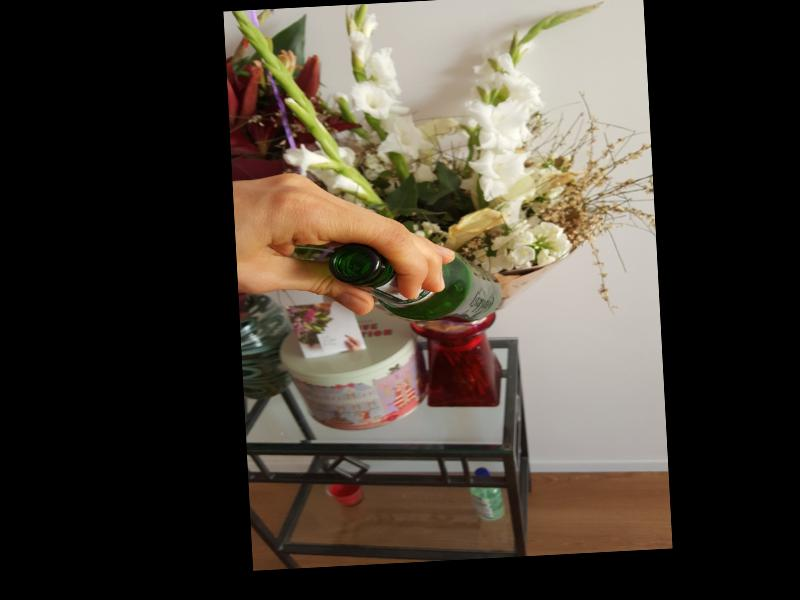Beer: (328, 236, 503, 330)
